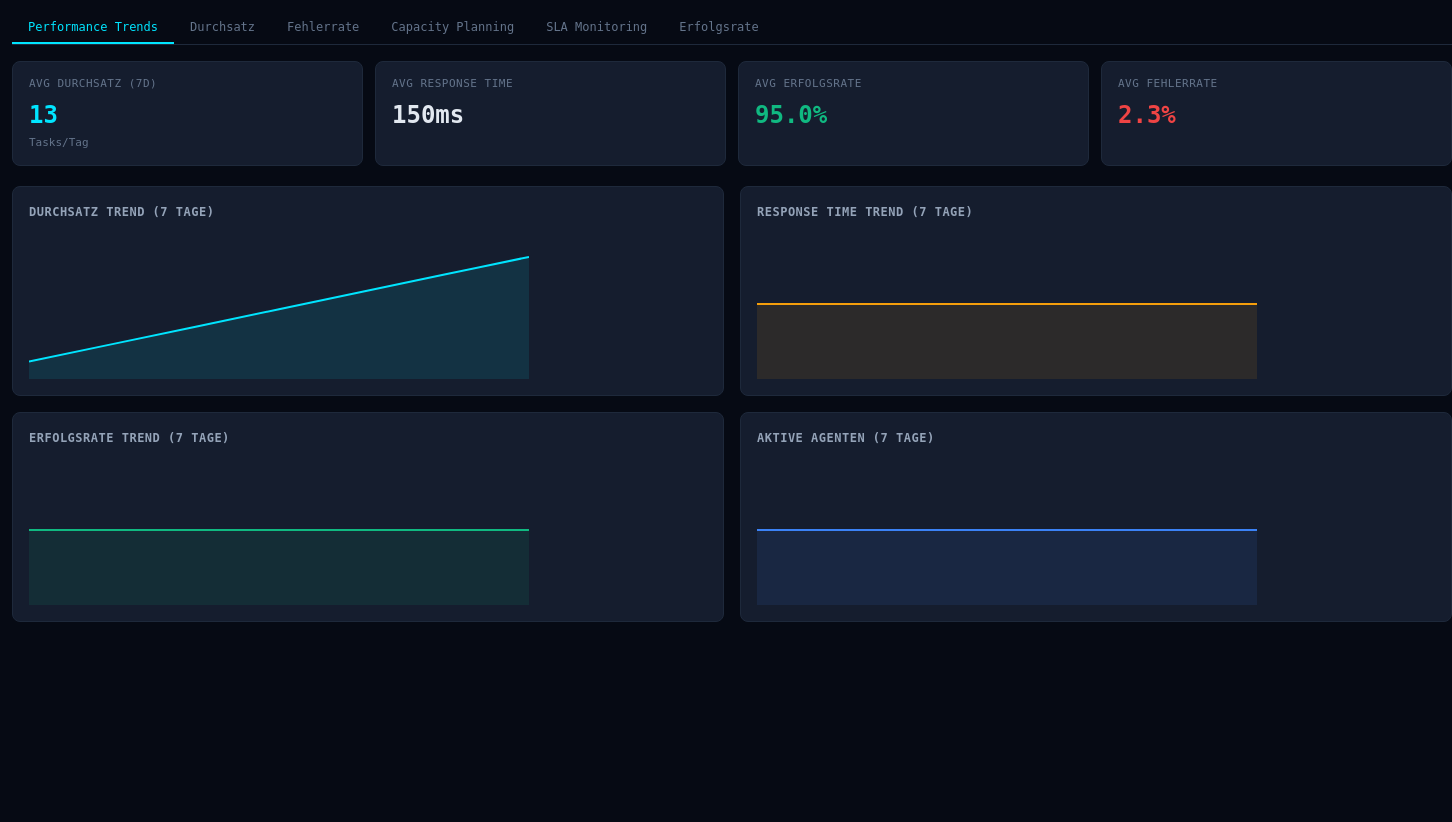
Test: AnalyticsView › switches to throughput tab
Expected: the text "Avg Durchsatz (7d)" is shown, [29,77,157,90]
Click the button "Durchsatz".
click(222, 28)  # box [174,12,271,44]
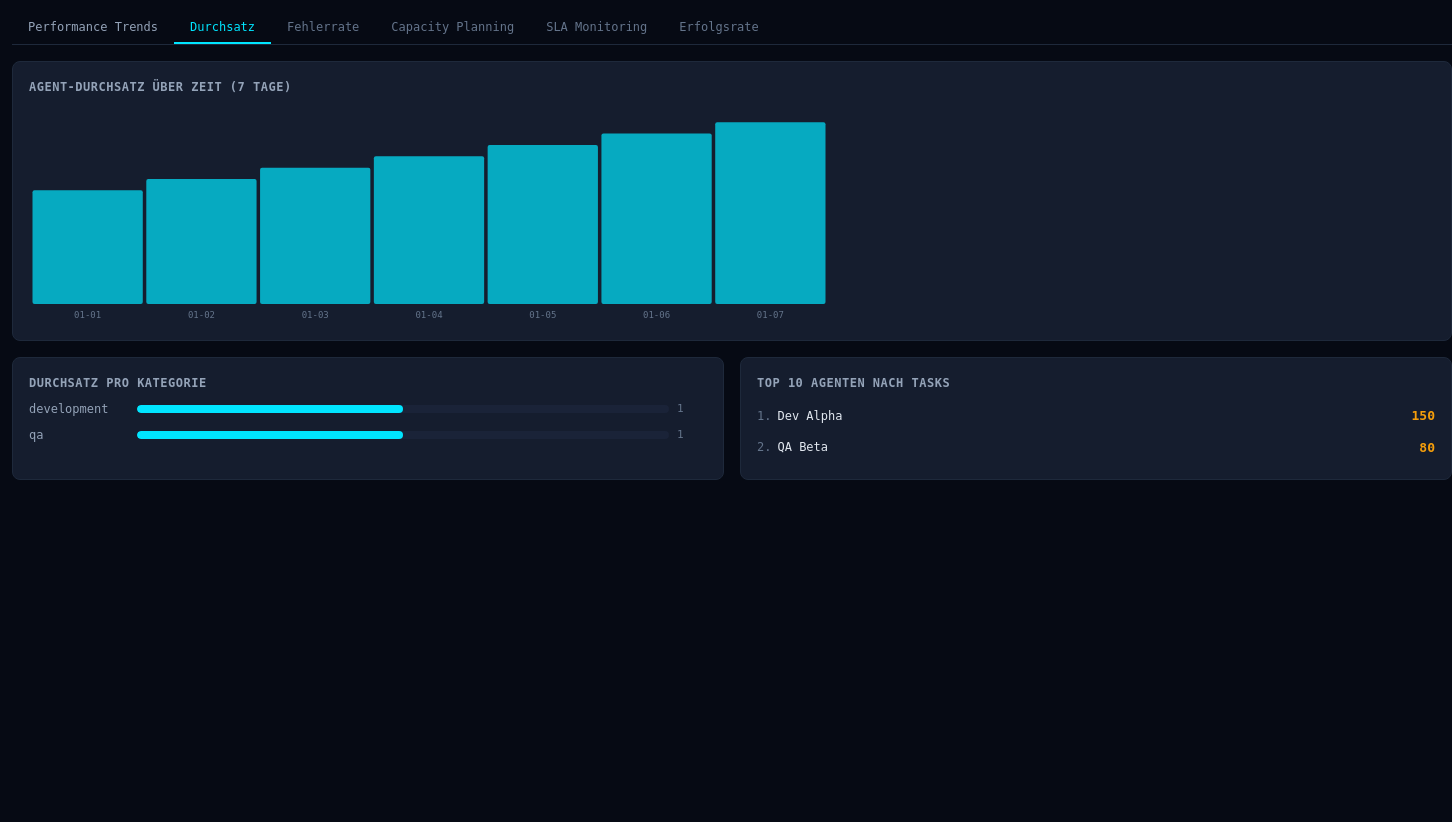
Expected: the text "Agent-Durchsatz über Zeit (7 Tage)" is shown, [29,80,292,94]
Expected: the text "Durchsatz pro Kategorie" is shown, [29,376,207,390]
Expected: the text "Top 10 Agenten nach Tasks" is shown, [757,376,950,390]
